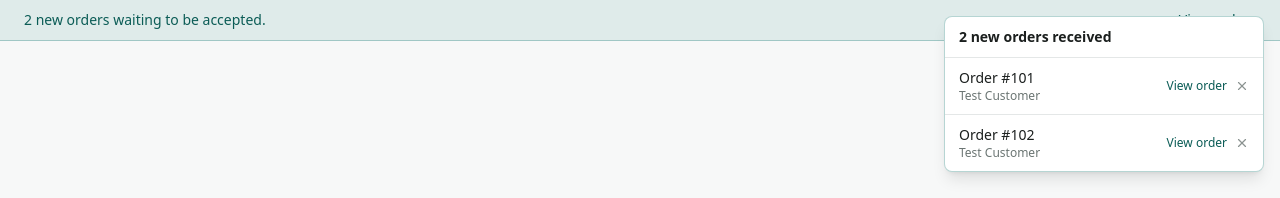
it: NewOrderBanner › dismissing a new-order notification removes only that one
Expected: the text "2 new orders received" is shown, [959, 27, 1112, 47]
Click the button named "Dismiss" in the row of "101" at (1242, 86), box [1235, 79, 1249, 93]
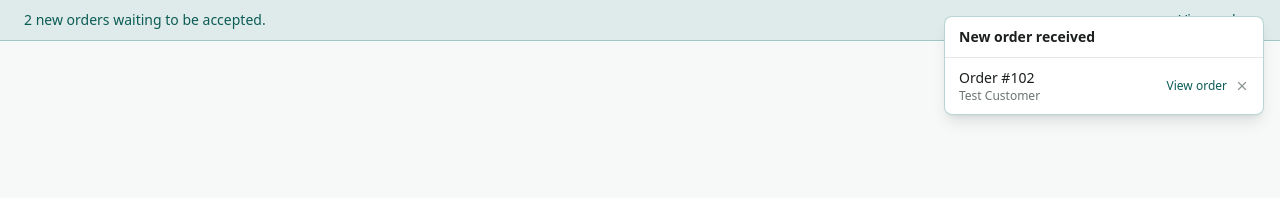
Expected: the text "New order received" is shown, [959, 27, 1095, 47]
